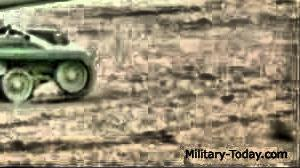tanks: (1, 25, 92, 104), (1, 1, 59, 11)
